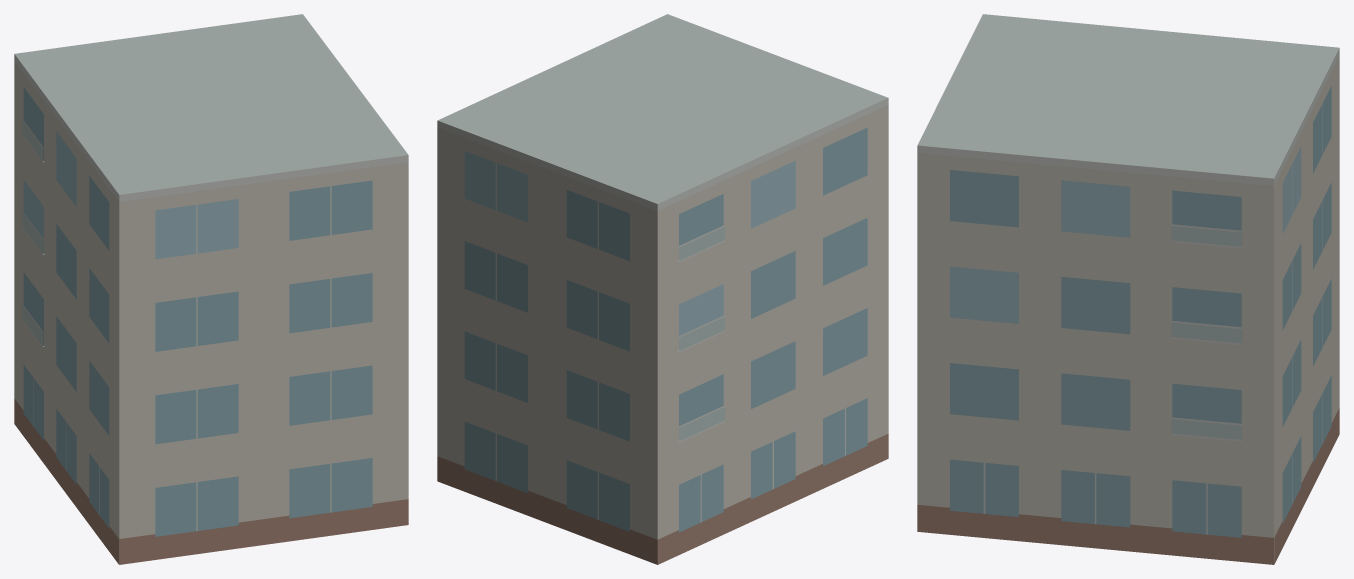
Rendered from survey-upis-32925922.glb.
3 renders of one model, left to right at view 1: azimuth 30°, elevation 25°; view 2: azimuth 150°, elevation 25°; view 3: azimuth 270°, elevation 25°, orthographic. The views are drawn at different scales.
Parts seen in each view (by area): view 1: survey-upis-32925922.tmp; view 2: survey-upis-32925922.tmp; view 3: survey-upis-32925922.tmp.
Boxes of the visible parts, box(x1,y1,x2,y2) form: survey-upis-32925922.tmp: box(14, 14, 408, 564); survey-upis-32925922.tmp: box(437, 14, 888, 564); survey-upis-32925922.tmp: box(917, 14, 1339, 564).
Size of the model in its own units: 11.71 by 12.8 by 12.69.
